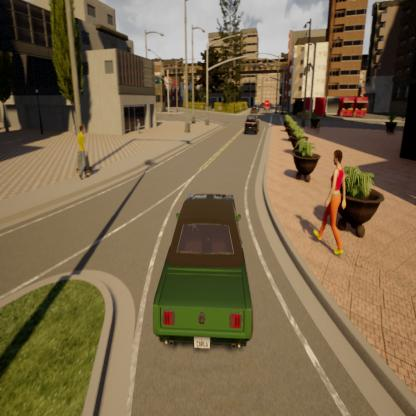Cars: (153, 193, 254, 351), (244, 113, 259, 136)
Pedestrian: (312, 148, 348, 259), (76, 122, 90, 181), (136, 118, 143, 137)
